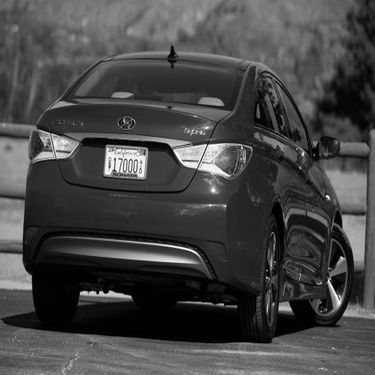car: (10, 40, 365, 341)
